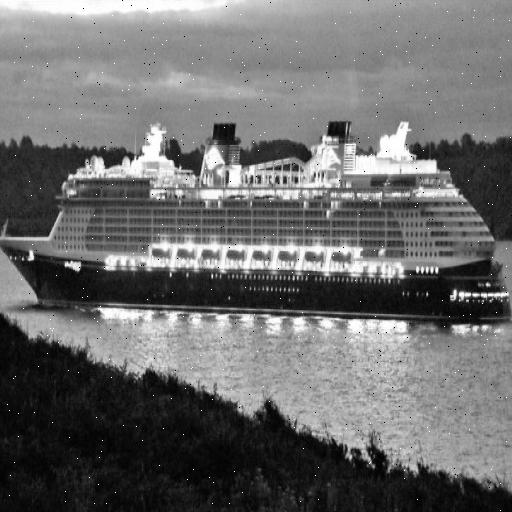cruises: (1, 120, 512, 339)
